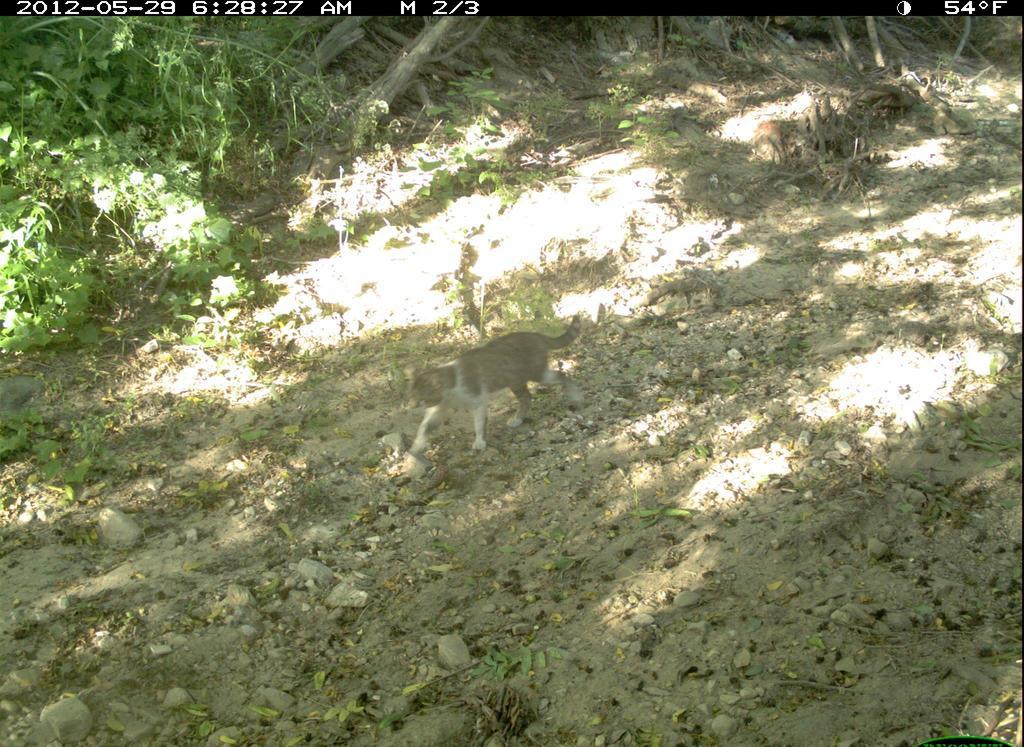cat: (399, 310, 589, 464)
